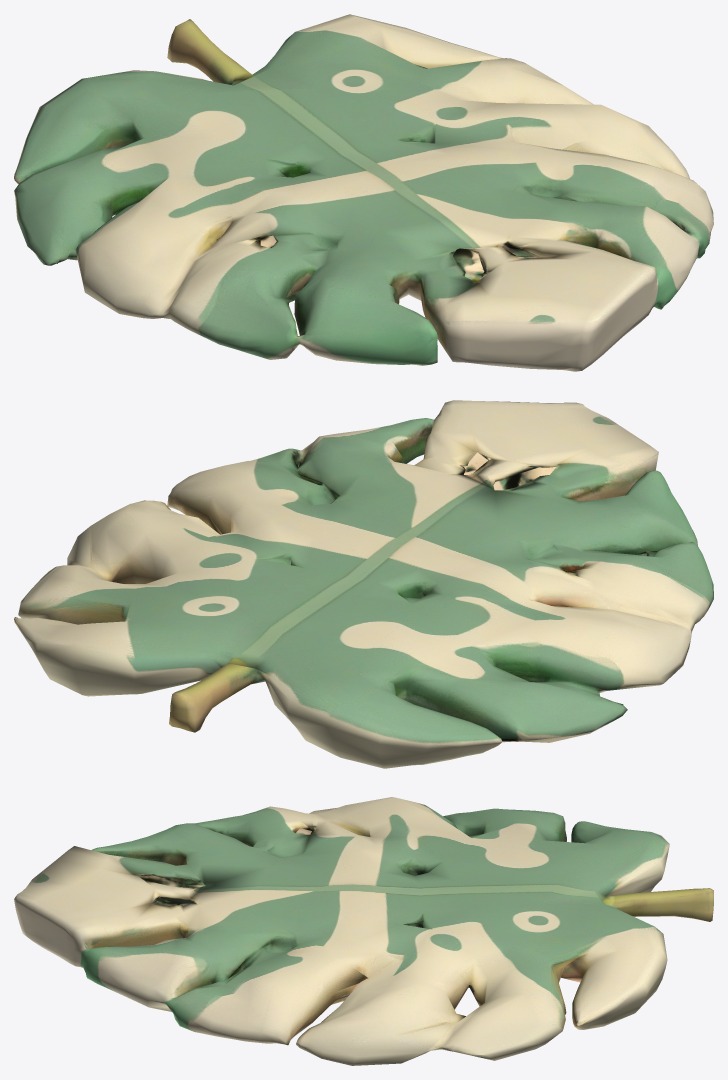
File: mon_variegata_greenwhite.glb
3 views of the same model, one above another, from view 1: azimuth 30°, elevation 25°; view 2: azimuth 150°, elevation 25°; view 3: azimuth 270°, elevation 25° (orthographic). The views are drawn at different scales.
Size of the model in its own units: 1.63 by 0.1889 by 2.
1 material, 1 textured.
